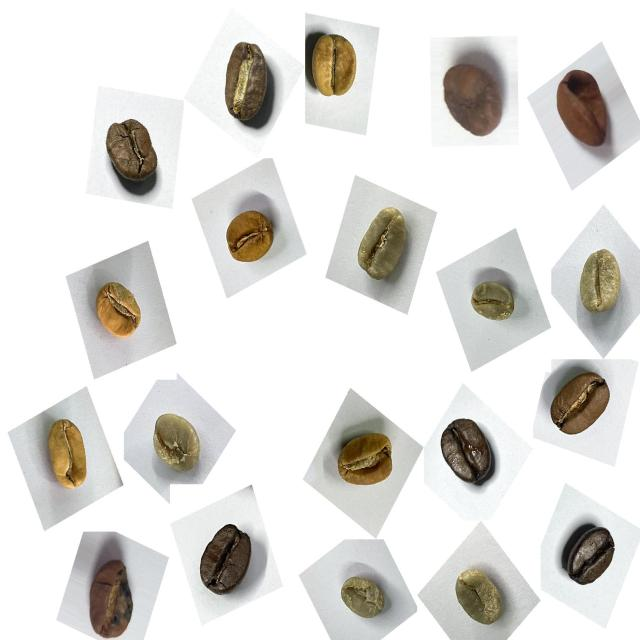bad: (434, 42, 514, 149), (544, 61, 622, 162), (78, 544, 146, 638)
dark: (190, 512, 263, 608), (434, 409, 506, 498), (556, 515, 627, 601)
green: (344, 196, 422, 297), (142, 404, 212, 489), (567, 239, 633, 329), (445, 559, 514, 639), (330, 568, 393, 634), (462, 270, 524, 337)
light: (32, 407, 100, 501), (327, 421, 402, 502), (306, 22, 373, 112), (85, 271, 153, 351), (214, 198, 282, 277)
medium: (207, 31, 284, 138), (93, 108, 172, 200), (541, 364, 621, 451)
